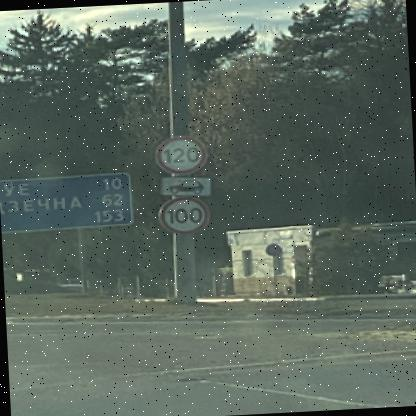speedlimit: (152, 132, 204, 174), (154, 193, 205, 234)
